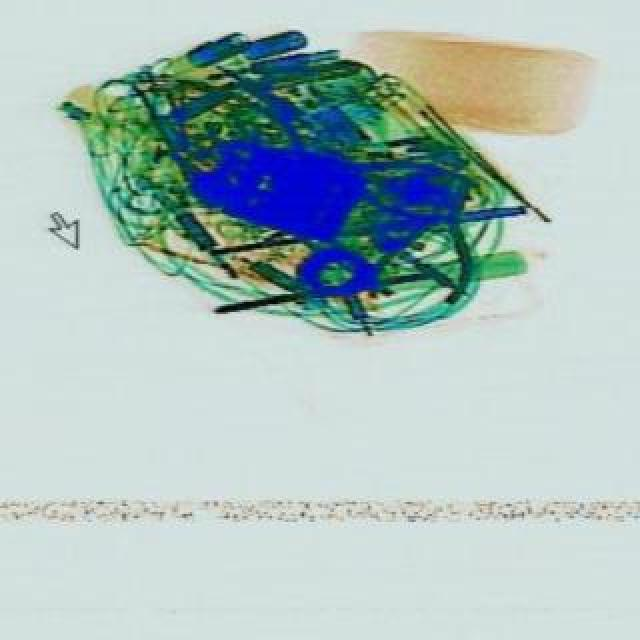wrench: (374, 166, 512, 314), (324, 146, 468, 230)
